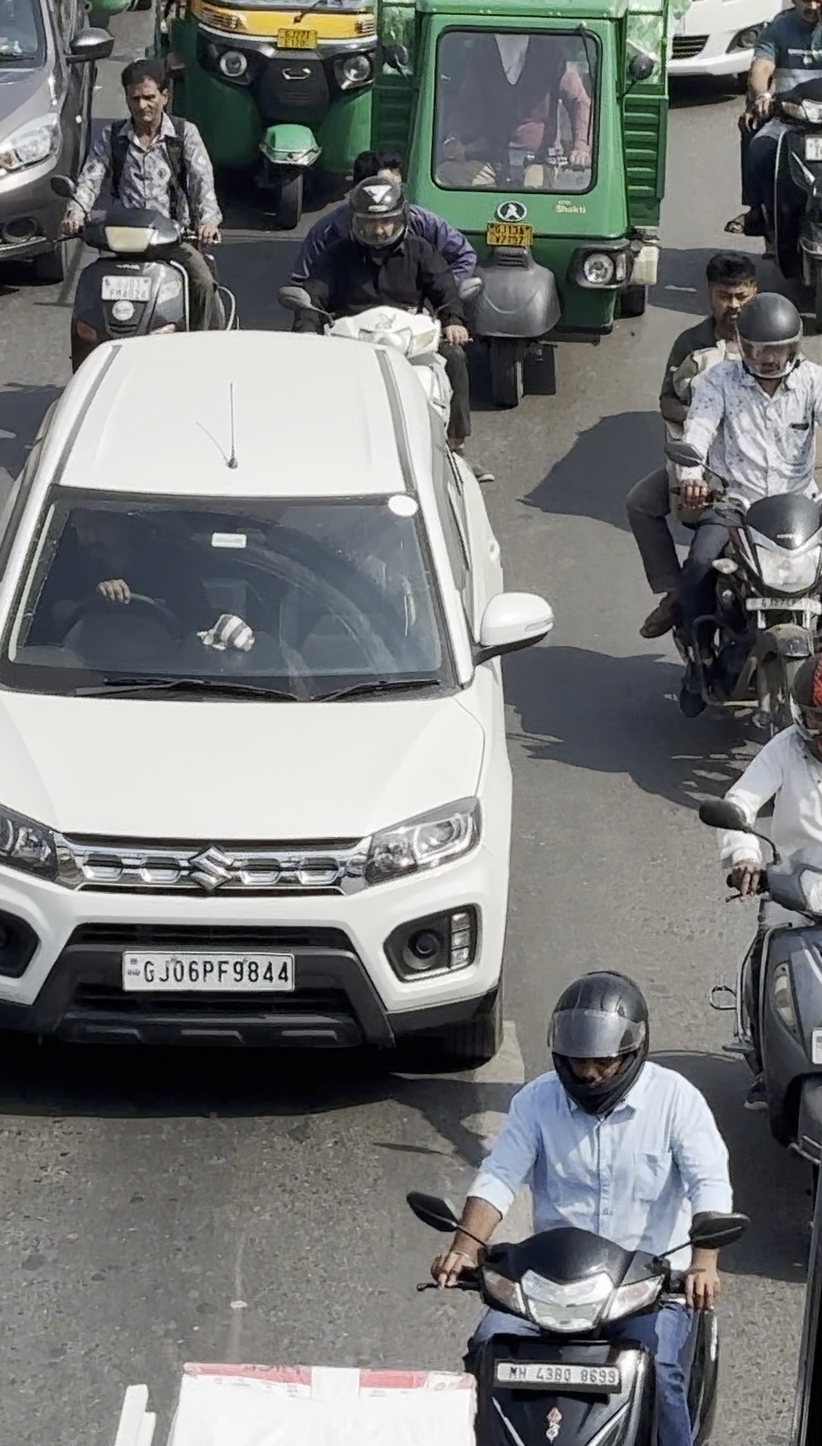BikeWithRider: (395, 955, 761, 1445), (613, 240, 822, 768), (39, 46, 253, 394)
Helmet: (531, 954, 666, 1121), (724, 283, 813, 390), (334, 168, 421, 260)
NoHelmet: (689, 241, 771, 343), (106, 51, 182, 139)
